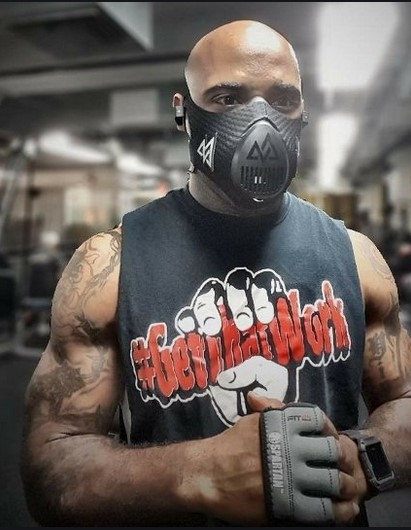face_with_mask: (170, 19, 308, 218)
